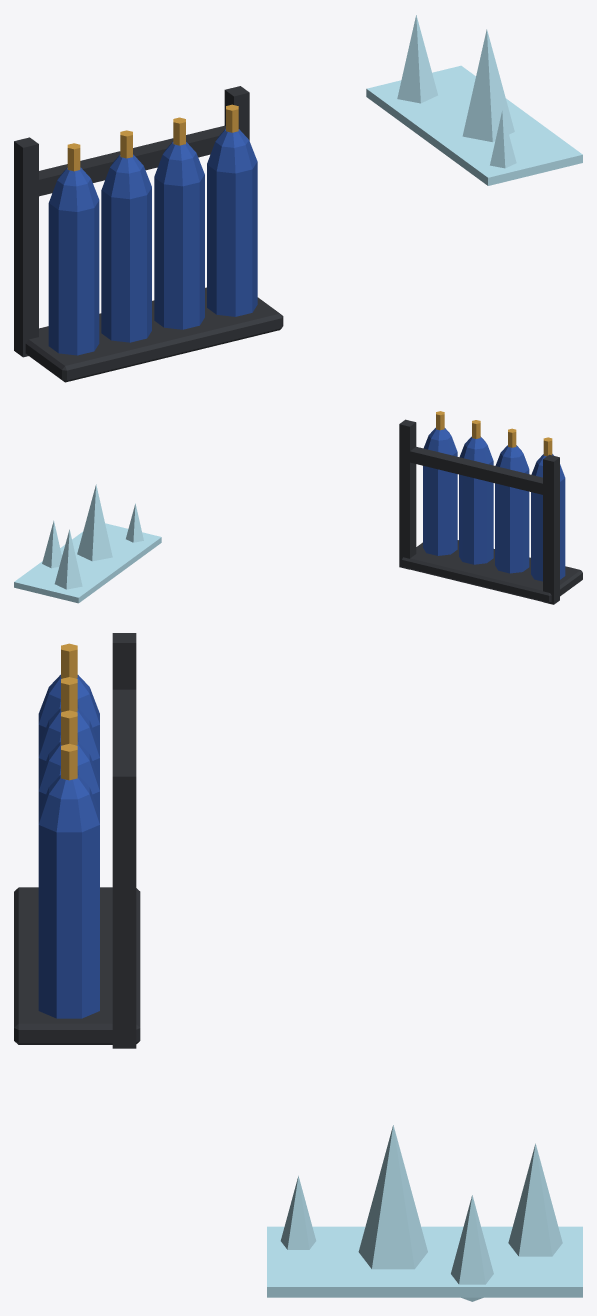
Rendered from FlameDressB2.obj.
3 views of the same model, one above another, from view 1: azimuth 30°, elevation 25°; view 2: azimuth 150°, elevation 25°; view 3: azimuth 270°, elevation 25° (orthographic). The views are drawn at different scales.
Visible parts, largest first — view 1: FlameDressB2; view 2: FlameDressB2; view 3: FlameDressB2.
Part boxes in pixels (bbox=[...]): FlameDressB2: bbox=[14, 15, 582, 382]; FlameDressB2: bbox=[14, 411, 582, 604]; FlameDressB2: bbox=[14, 633, 582, 1301].
Bounding box in the file's own units: 1.18 × 0.41 × 0.72.
